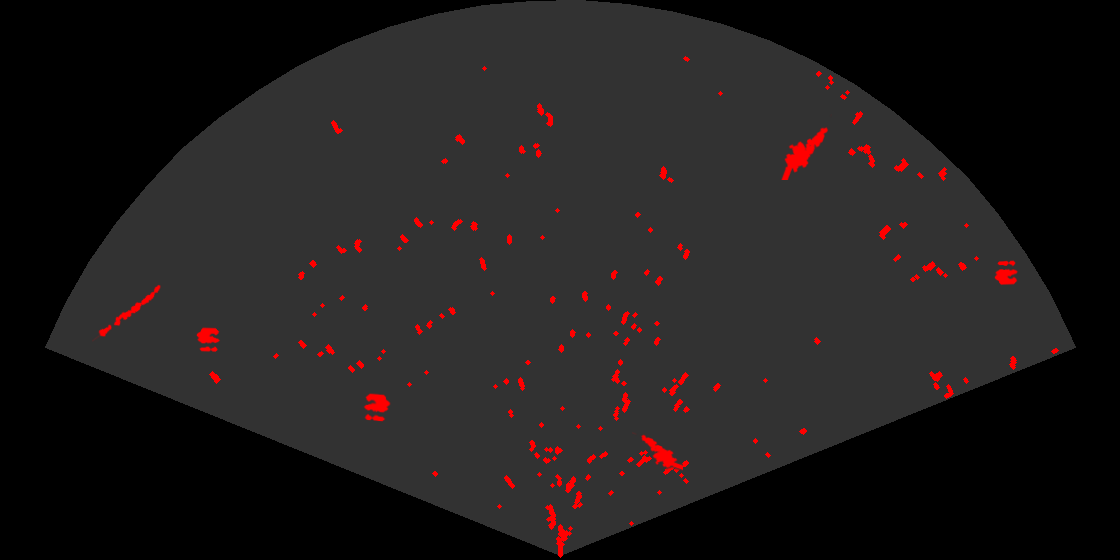ball: (362, 392, 392, 423), (195, 326, 222, 353), (993, 259, 1019, 287)
chain: (92, 283, 162, 343)
frogman: (779, 114, 832, 180), (632, 432, 683, 472)
